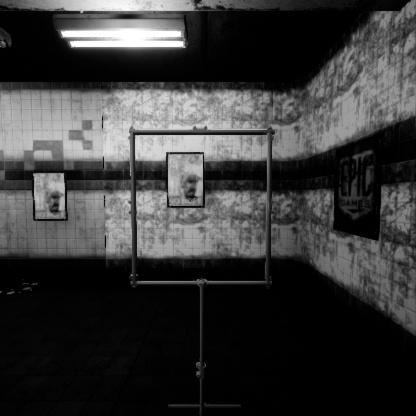gate: (130, 127, 287, 288)
